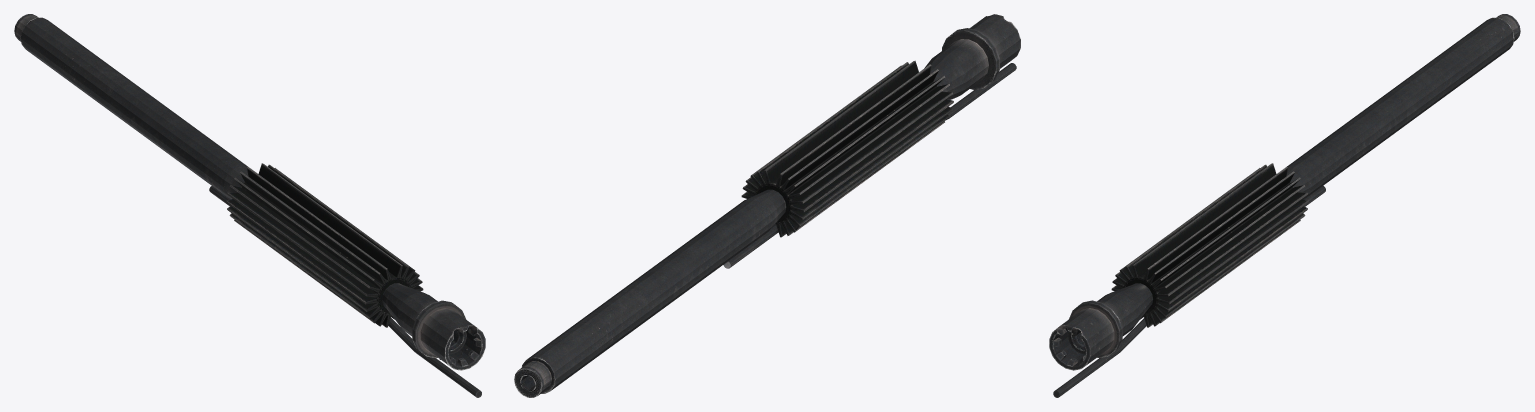
3 renders of one model, left to right at view 1: azimuth 30°, elevation 25°; view 2: azimuth 150°, elevation 25°; view 3: azimuth 330°, elevation 25°, orthographic. The views are drawn at different scales.
Parts seen in each view (by area): view 1: TW_5a34f7f1c4a2826c6e06d75d_PZ_Import; view 2: TW_5a34f7f1c4a2826c6e06d75d_PZ_Import; view 3: TW_5a34f7f1c4a2826c6e06d75d_PZ_Import.
Part boxes in pixels (x1=…): TW_5a34f7f1c4a2826c6e06d75d_PZ_Import: x1=14, y1=14, x2=485, y2=397; TW_5a34f7f1c4a2826c6e06d75d_PZ_Import: x1=514, y1=14, x2=1020, y2=397; TW_5a34f7f1c4a2826c6e06d75d_PZ_Import: x1=1049, y1=14, x2=1520, y2=397.
Bounding box in the file's own units: 0.0199 × 0.268 × 0.0227.
Materials: 1 (1 with a texture image).
